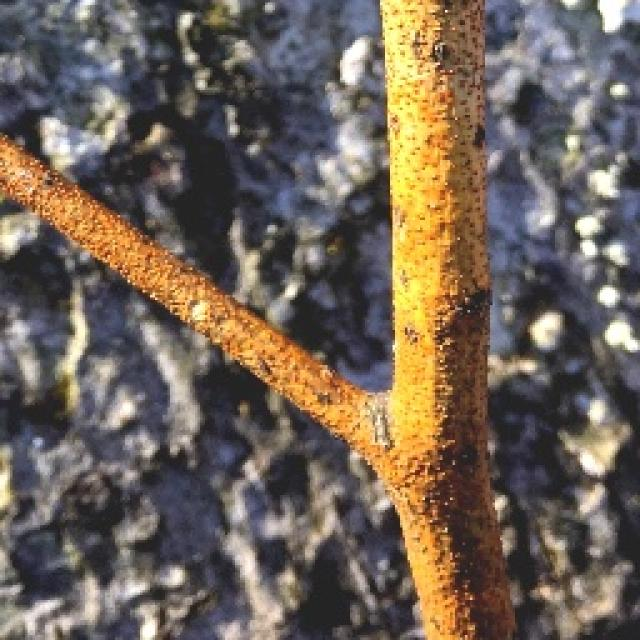Golden_canker: (0, 0, 528, 638)
